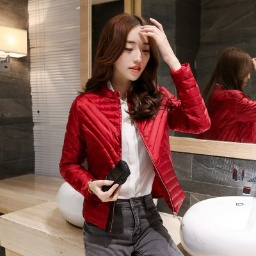face: (90, 13, 165, 94)
